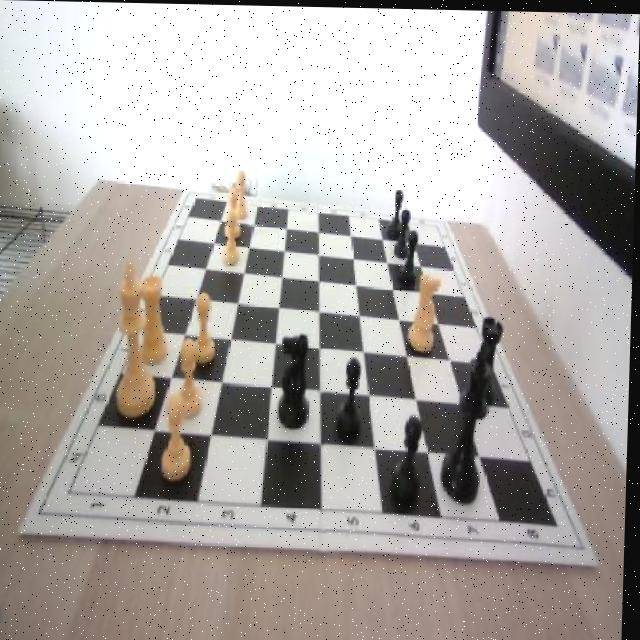black-bishop: (442, 339, 493, 504)
black-king: (281, 330, 316, 429)
black-knight: (394, 416, 426, 504), (339, 354, 365, 437), (401, 230, 419, 286), (389, 189, 406, 240), (396, 207, 413, 256)
black-queen: (469, 313, 505, 399)
white-bishop: (112, 262, 161, 417)
white-king: (409, 269, 443, 351)
white-knight: (161, 394, 196, 484), (180, 339, 211, 422), (192, 290, 219, 362), (223, 209, 244, 265), (225, 186, 242, 239), (235, 167, 249, 217)
white-queen: (139, 275, 172, 364)
